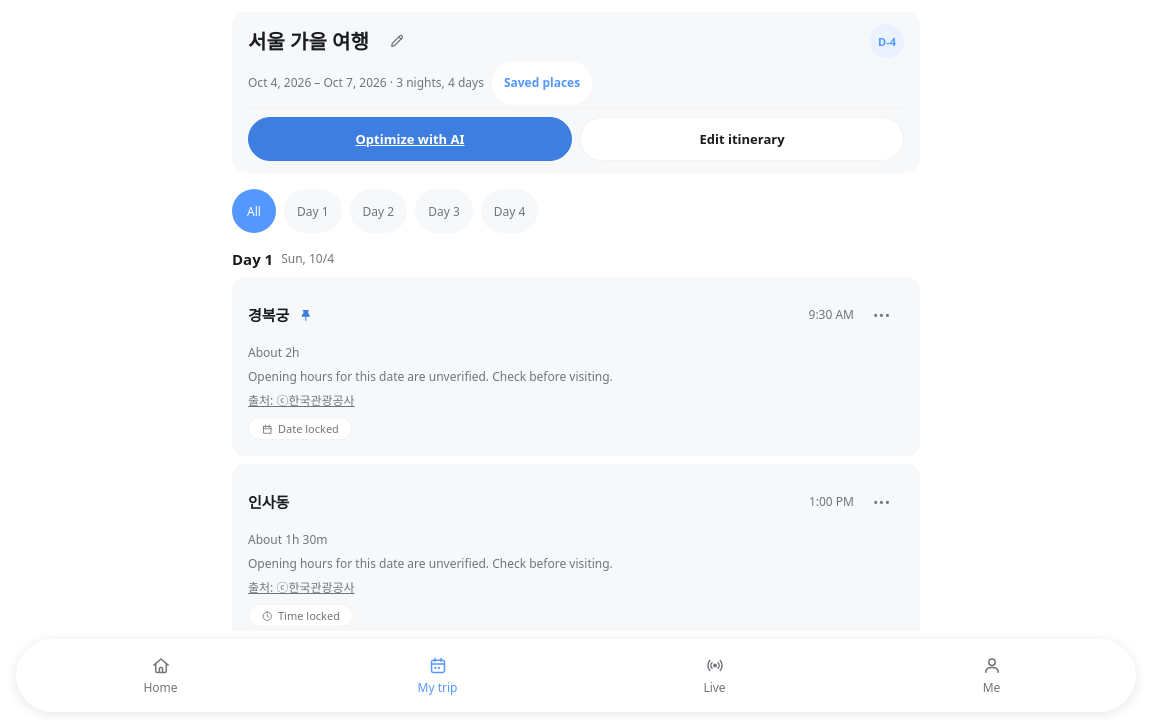
it: FE-305-T2 the sheet shows both sides with their own sources › names the stop being replaced and offers the alternatives
What coordinates should you click on to do the following:
click the button "•••" next to "9:30 AM"
I would click on:
 (882, 315)
Its box is [860,293,904,337].
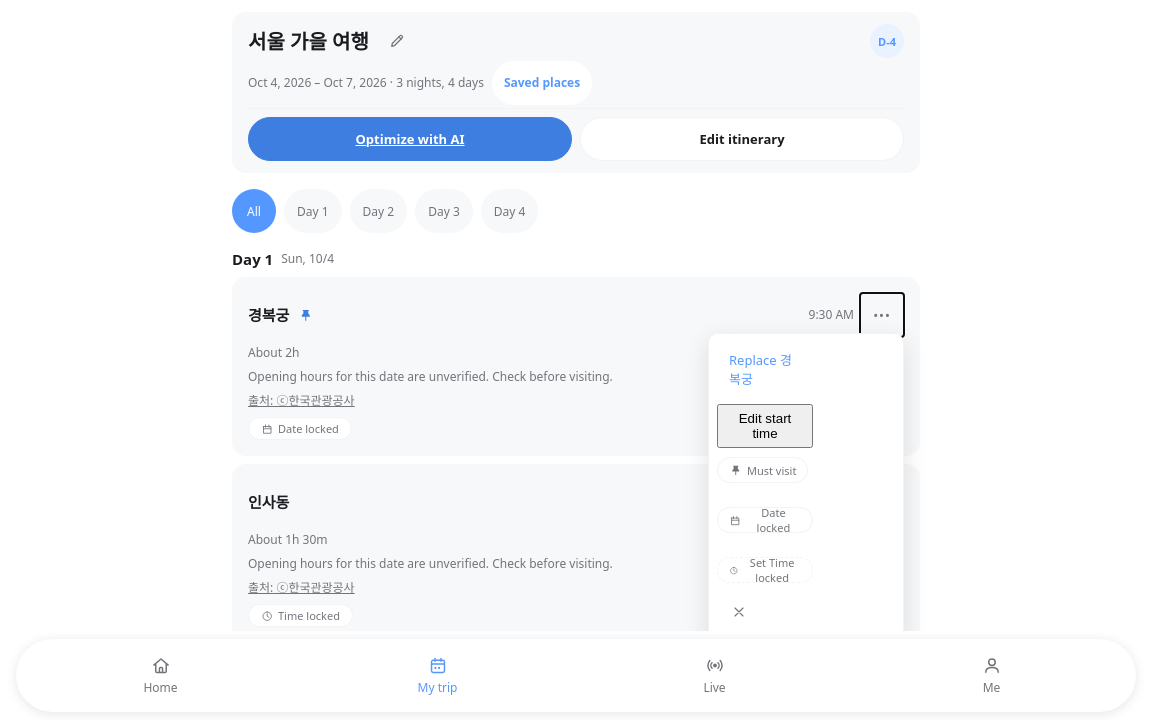
What coordinates should you click on to do the following:
click the button "Replace 경복궁"
I would click on:
 (765, 369)
Its box is [717,342,813,396].
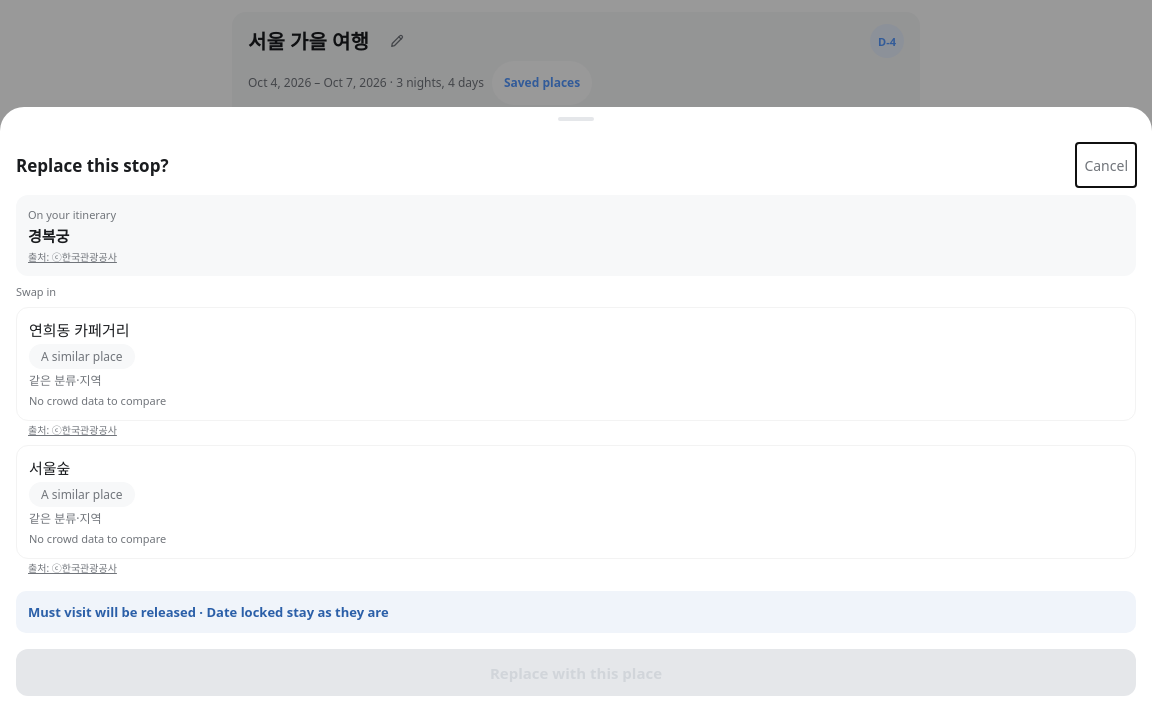
Now the text "경복궁" is shown, box [28,226,69,246]
Now the text "연희동 카페거리" is shown, box [29,320,130,340]
Now the text "서울숲" is shown, box [29,458,70,478]
